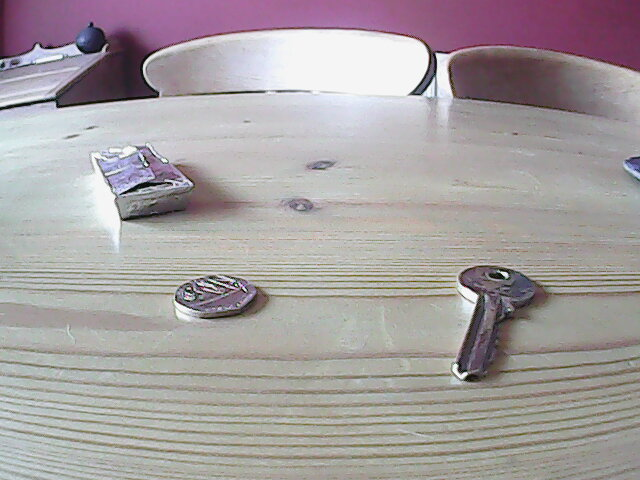Coin: (173, 272, 260, 320)
Foil: (85, 140, 199, 221)
Key: (450, 262, 539, 388)
